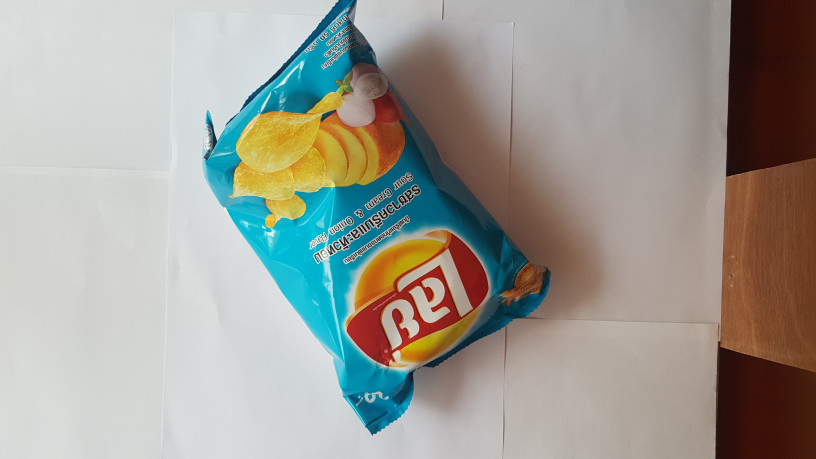lays-onion: (182, 1, 564, 452)
